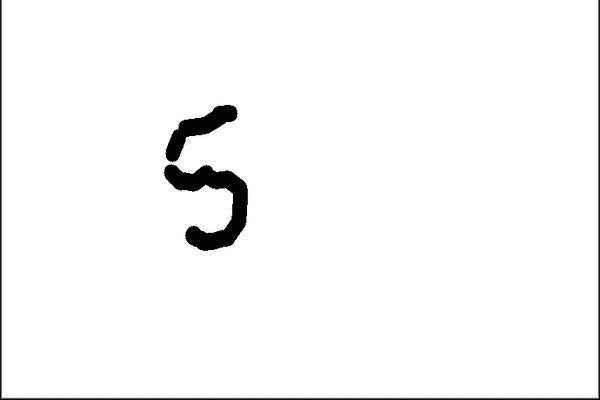S: (150, 101, 275, 260)
